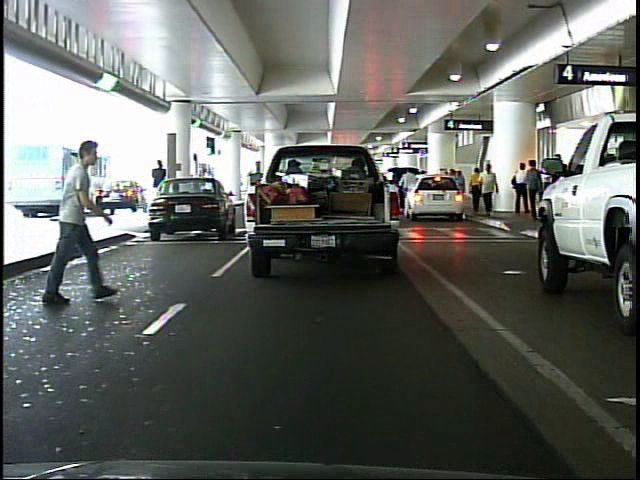person: (38, 132, 128, 321), (471, 156, 496, 221), (147, 157, 170, 218), (512, 156, 534, 217), (468, 160, 487, 220)
